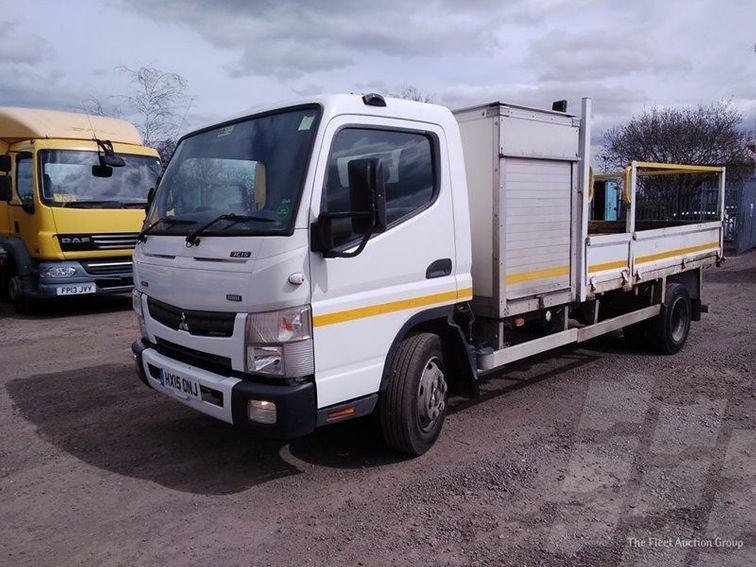Semi: (132, 92, 725, 456), (0, 106, 164, 312)
